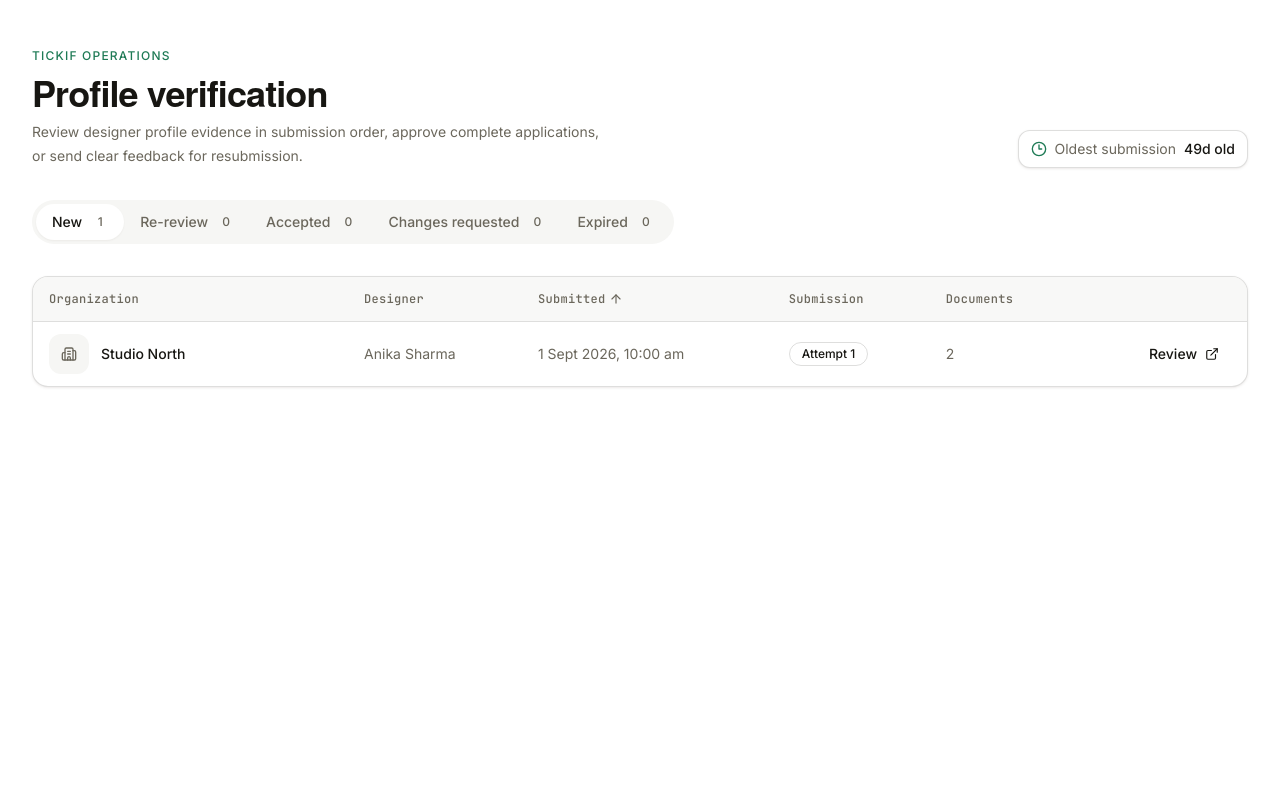
Test: AdminVerificationQueue › distinguishes an expired approval renewal from a corrections resubmission
The image size is (1280, 800).
Click the button with aria-label "Open verification for Studio North". click: {"x": 1184, "y": 354}
box: [1137, 336, 1231, 372]
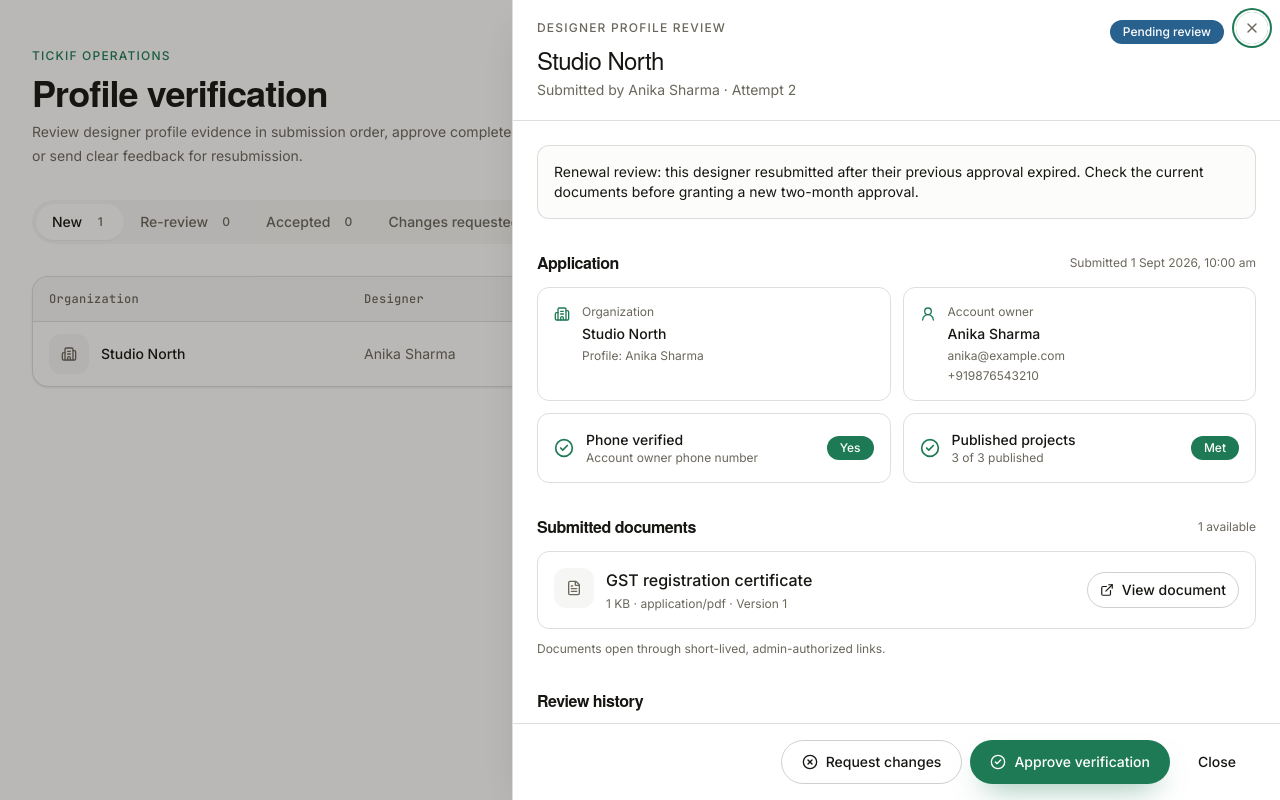
Result: the text "Renewal review: this designer resubmitted" is shown at [554, 163, 1204, 200]
Result: the button "Approve verification" is enabled at [970, 740, 1170, 784]
